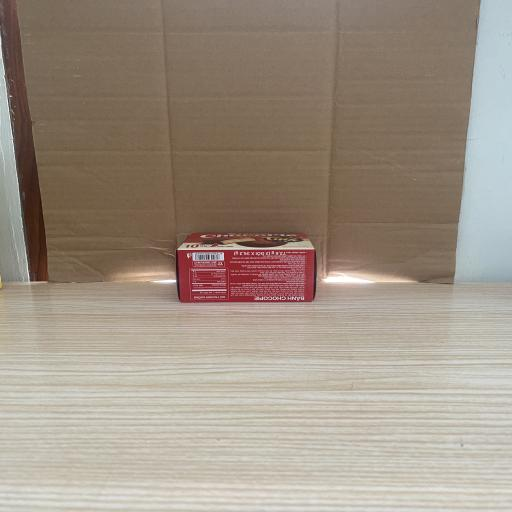chocopie: (176, 232, 317, 302)
